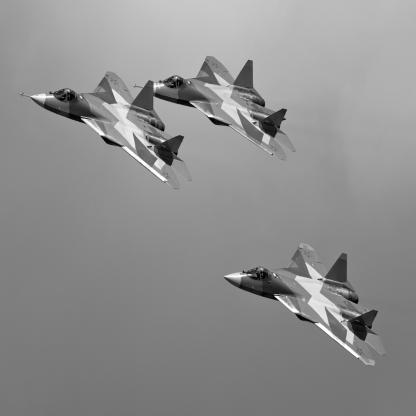Su57: (19, 72, 194, 191), (224, 243, 387, 368), (132, 56, 298, 162)
